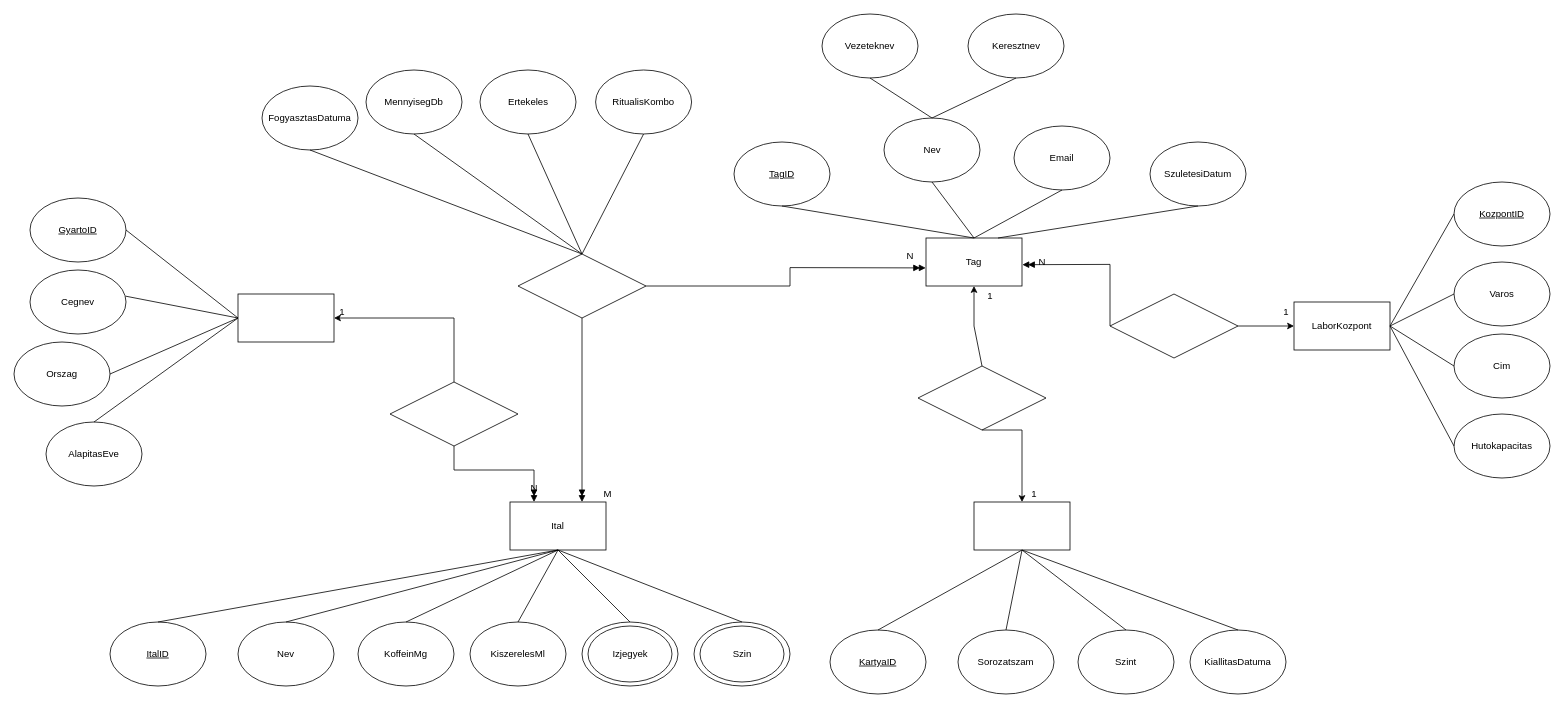
Image size: 1564x708. Some labels were removed from this diagram. The box of each missing label's shape, as (x1, y1, x2, y2) in pixels:
GY-I: (389, 381, 518, 446)
Gyarto: (237, 293, 334, 342)
T-I: (517, 253, 646, 318)
T-L: (1109, 293, 1238, 358)
T-V: (917, 365, 1046, 430)
VIPKartya: (973, 501, 1070, 550)
